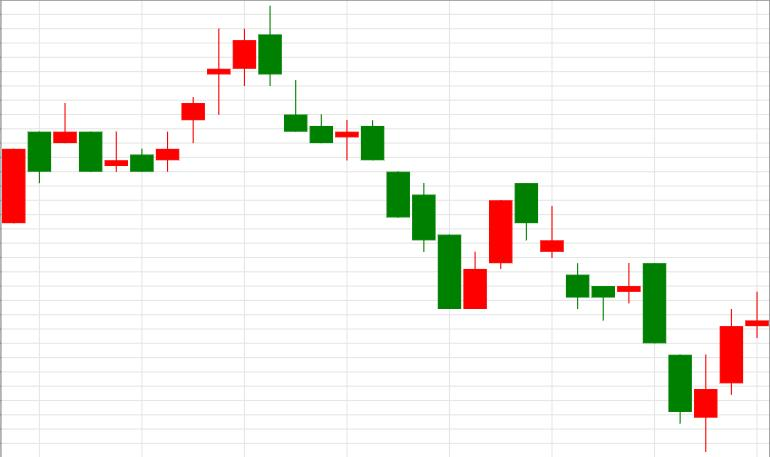bearish_engulfing_fall: (156, 5, 282, 172)
